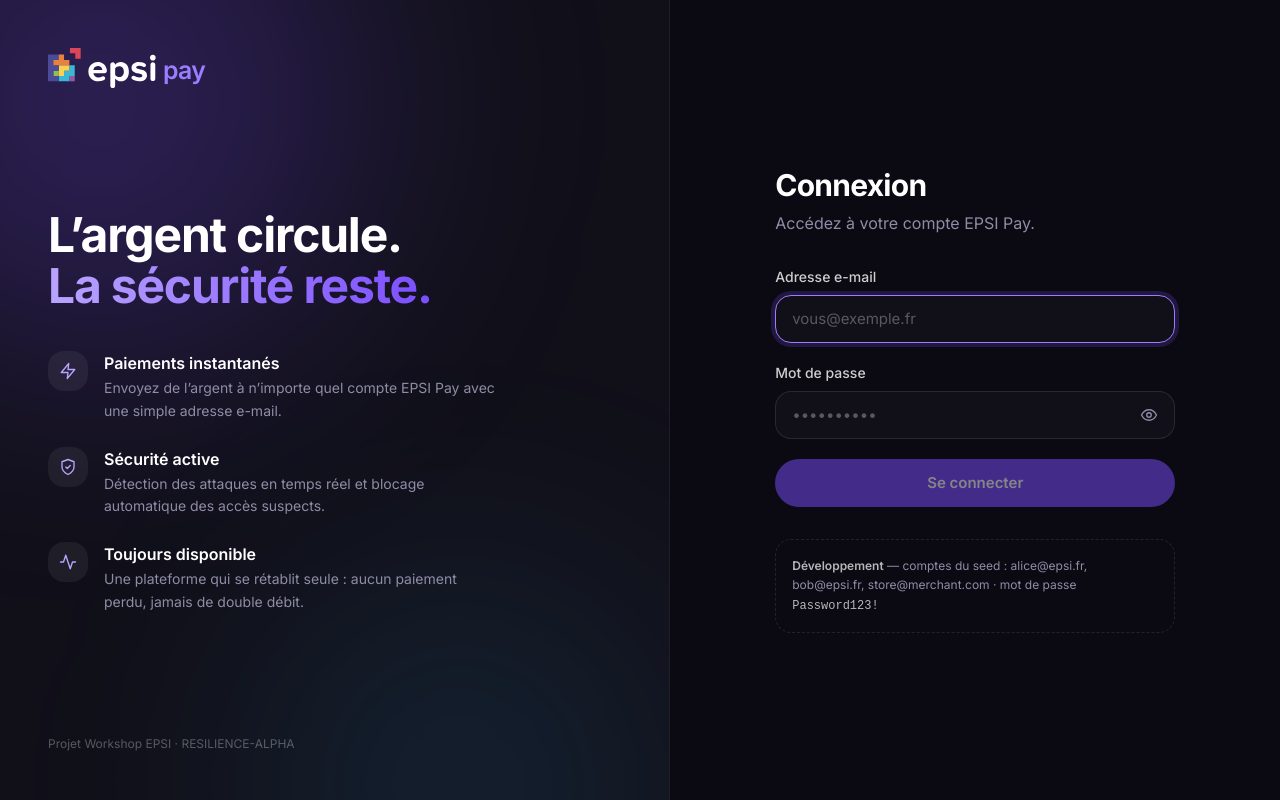
Test: Écrans › Connexion › doit afficher le blocage de sécurité sans révéler l’adresse IP
Type "alice@epsi.fr" into the field labelled "Adresse e-mail" at (975, 319), box x1=775 y1=295 x2=1175 y2=343
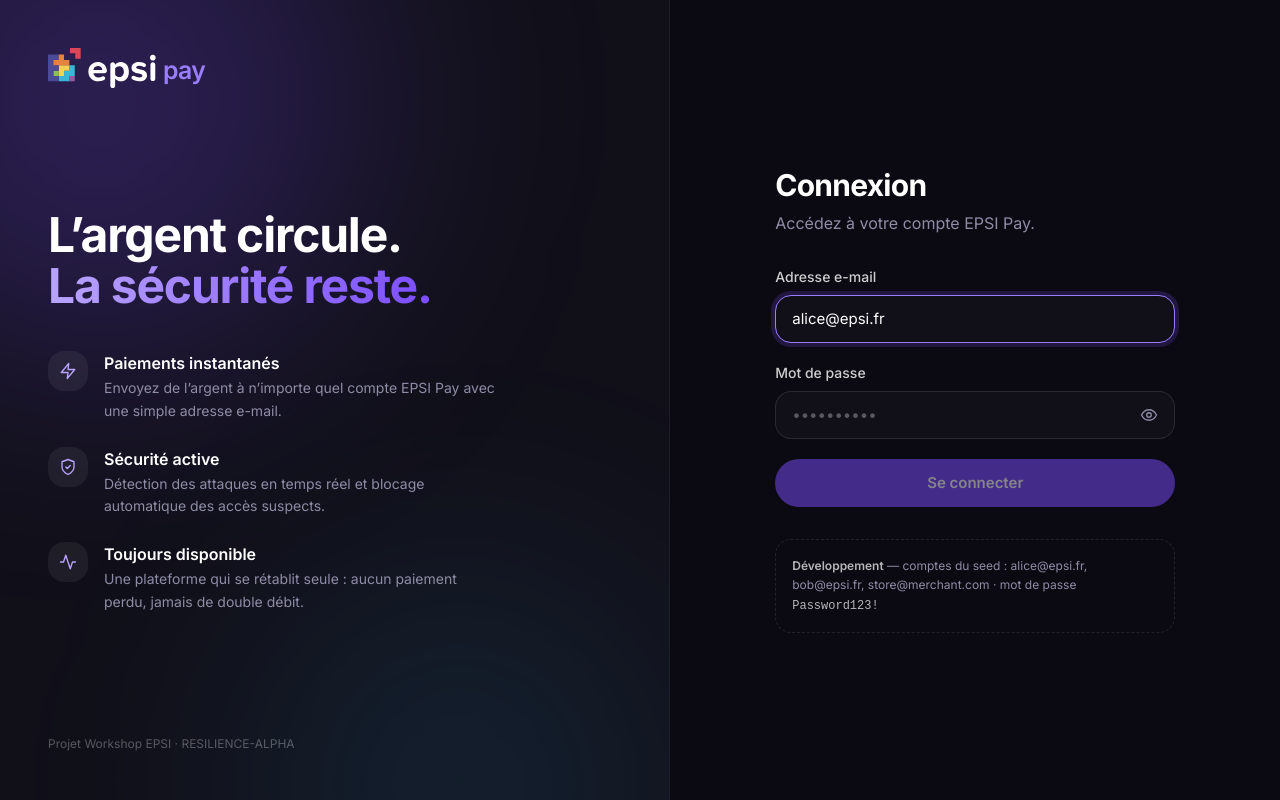
Type "mauvais" into the password field labelled "Mot de passe" at (975, 415), box x1=775 y1=391 x2=1175 y2=439
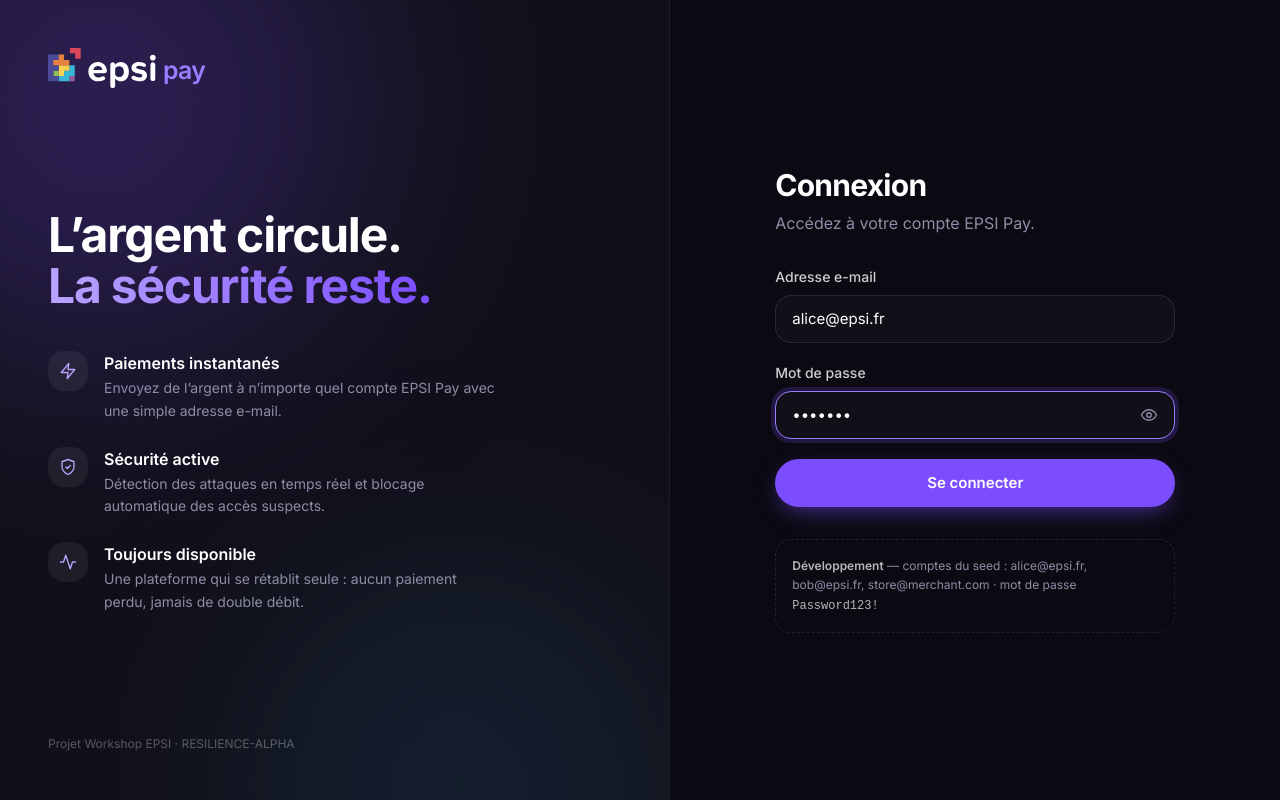
Click the button "Se connecter" at (975, 483), box x1=775 y1=459 x2=1175 y2=507
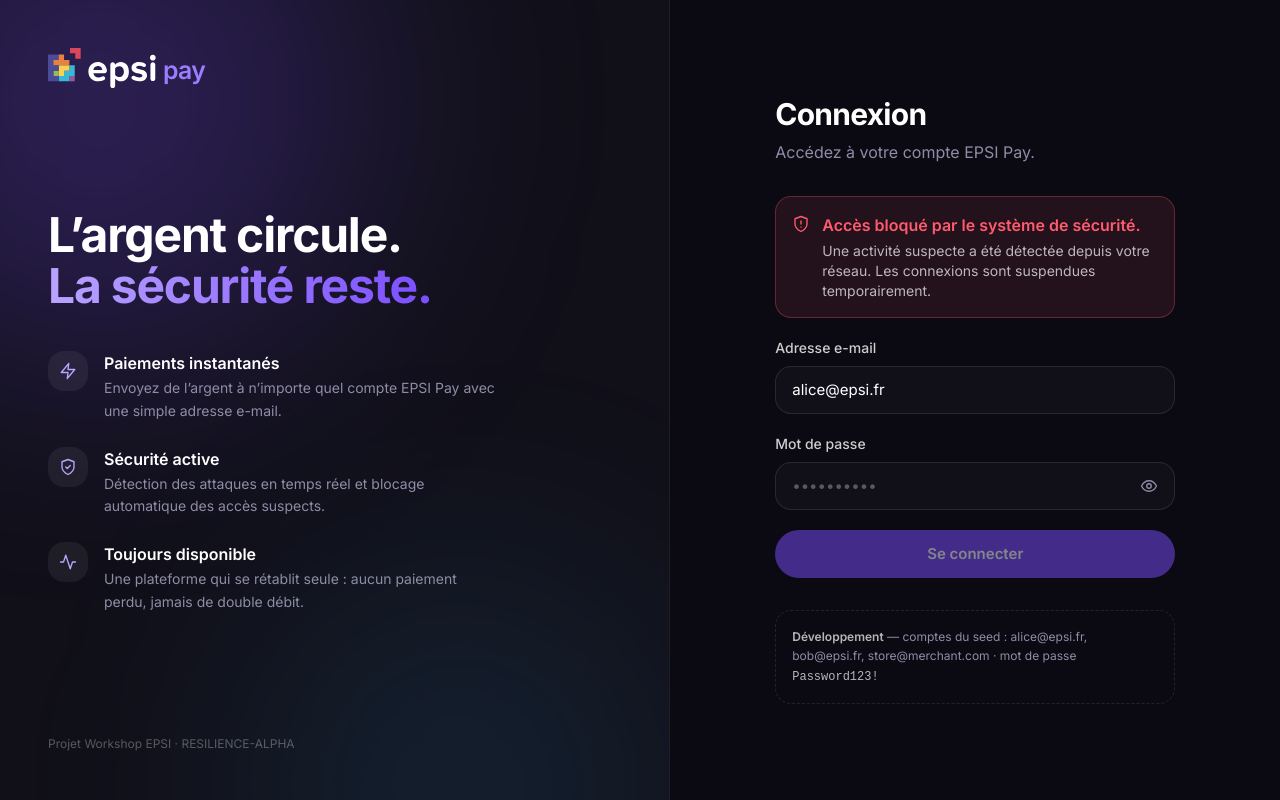
Expected: the message does not show "203.0.113.7", x1=775 y1=196 x2=1175 y2=318
Now the message shows "Accès bloqué par le système de sécurité.", box x1=822 y1=215 x2=1140 y2=235
